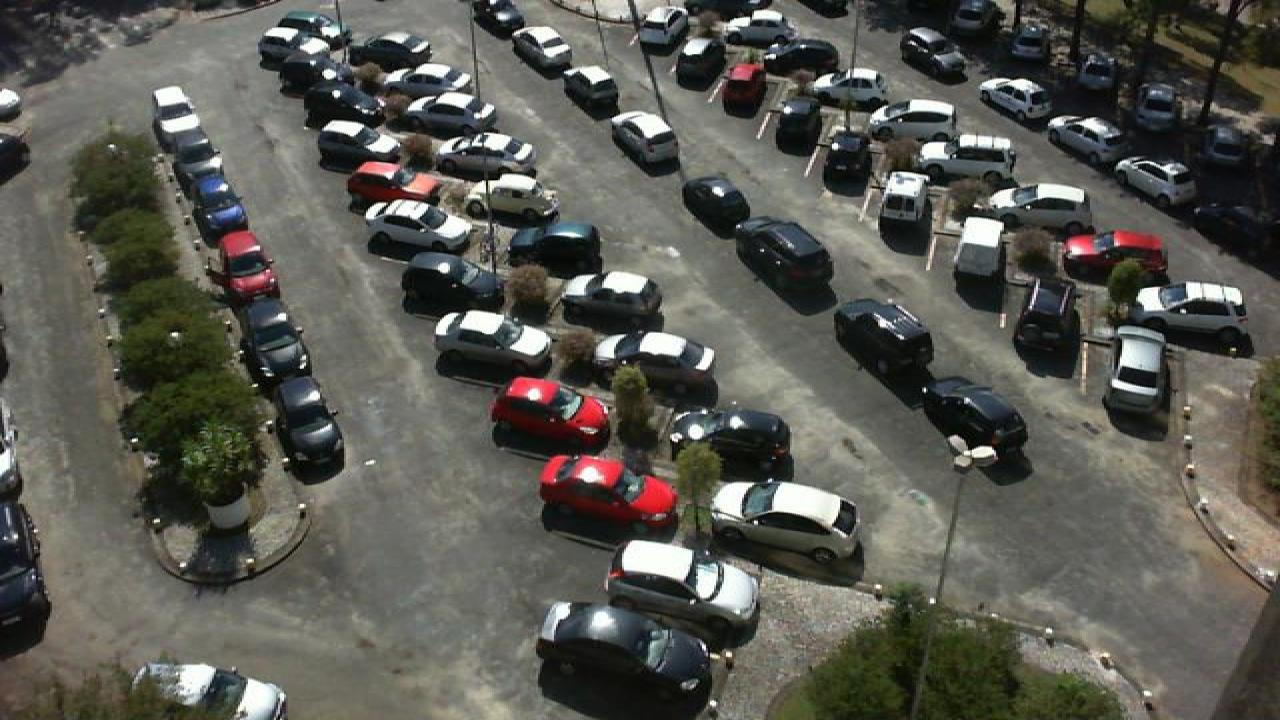Car: (534, 602, 714, 709), (604, 538, 764, 647), (710, 476, 866, 564), (538, 454, 678, 536), (126, 661, 288, 720), (920, 376, 1030, 462), (592, 328, 718, 402), (430, 308, 556, 382), (666, 405, 792, 477), (490, 374, 612, 446), (834, 297, 938, 379), (1130, 279, 1254, 347), (738, 217, 840, 296), (360, 197, 478, 259), (560, 268, 666, 335), (398, 251, 506, 315), (1102, 326, 1172, 414), (1008, 276, 1082, 356), (500, 221, 606, 276), (1058, 229, 1168, 282), (982, 180, 1096, 231), (342, 157, 448, 211), (278, 76, 378, 132), (302, 119, 408, 171), (914, 132, 1020, 184), (206, 230, 278, 302), (436, 132, 540, 181), (464, 171, 560, 224), (678, 173, 752, 235), (274, 391, 340, 459), (1114, 155, 1200, 207), (950, 215, 1008, 292), (402, 91, 498, 137), (868, 96, 962, 142), (610, 109, 680, 169), (1044, 115, 1128, 164), (256, 31, 344, 76), (896, 26, 970, 79), (802, 65, 888, 109), (876, 168, 930, 238), (978, 77, 1054, 124), (256, 343, 316, 402), (238, 298, 296, 359), (558, 64, 622, 118), (376, 59, 460, 100), (150, 84, 210, 140), (354, 29, 434, 70), (194, 174, 246, 236), (510, 25, 576, 73), (1190, 117, 1256, 165), (760, 36, 840, 75), (1130, 80, 1184, 135), (720, 9, 798, 46), (172, 130, 224, 185), (824, 128, 872, 187), (676, 34, 728, 88), (774, 97, 822, 154), (636, 4, 688, 53), (720, 62, 768, 115), (1066, 47, 1114, 98), (1006, 20, 1058, 66), (276, 10, 348, 43), (470, 0, 526, 38), (950, 0, 1000, 38)
